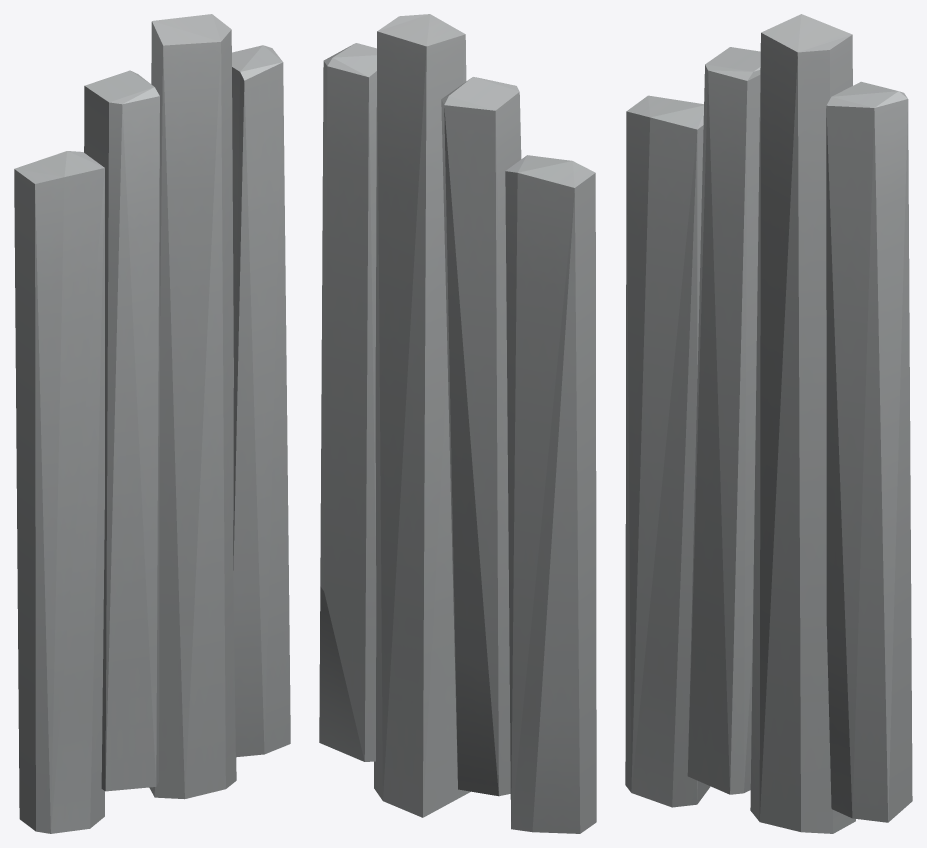
Rendered from rock_10m_2.fbx.
3 renders of one model, left to right at view 1: azimuth 30°, elevation 25°; view 2: azimuth 150°, elevation 25°; view 3: azimuth 330°, elevation 25°, orthographic. The views are drawn at different scales.
Visible parts, largest first — view 1: rock_10m_2; view 2: rock_10m_2; view 3: rock_10m_2.
Part boxes in pixels (x1=…): rock_10m_2: x1=14, y1=14, x2=290, y2=833; rock_10m_2: x1=319, y1=14, x2=596, y2=833; rock_10m_2: x1=625, y1=14, x2=912, y2=833.
Bounding box in the file's own units: 3.5 × 10 × 1.
